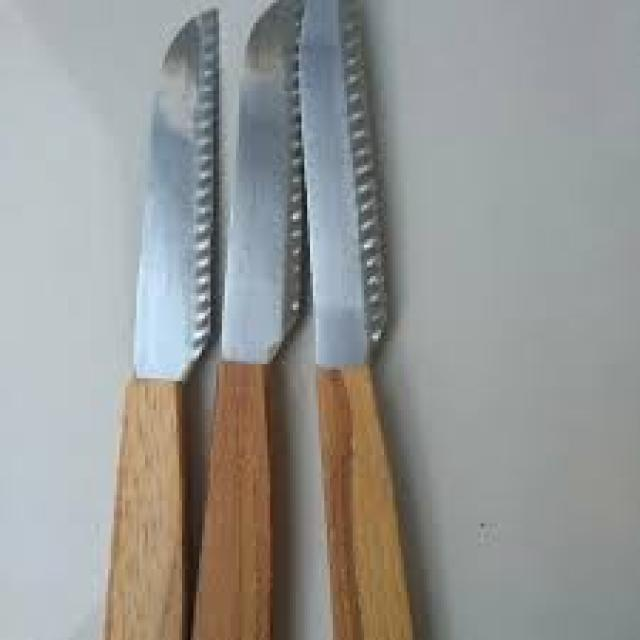Knife: (110, 16, 460, 640)
